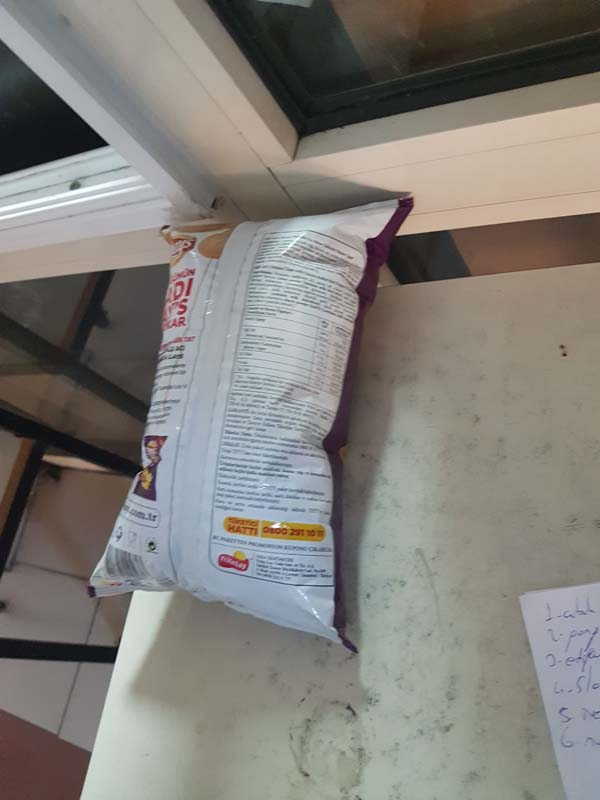layspeynirsoslu: (99, 195, 385, 663)
